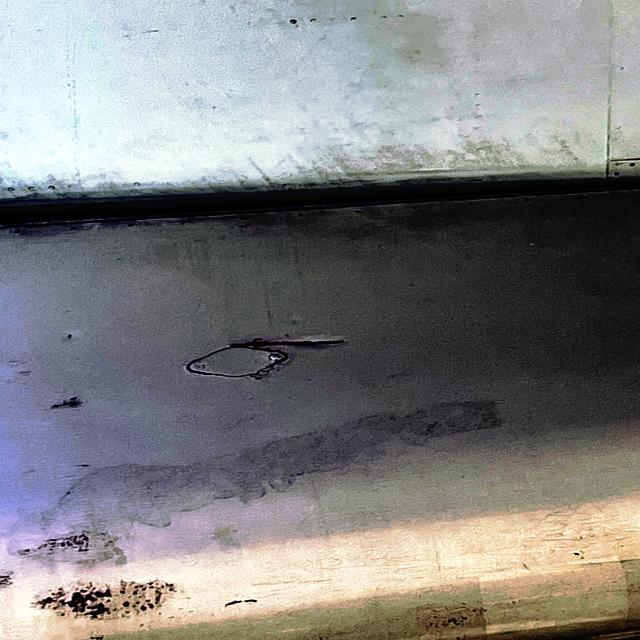crack: (243, 334, 348, 351)
